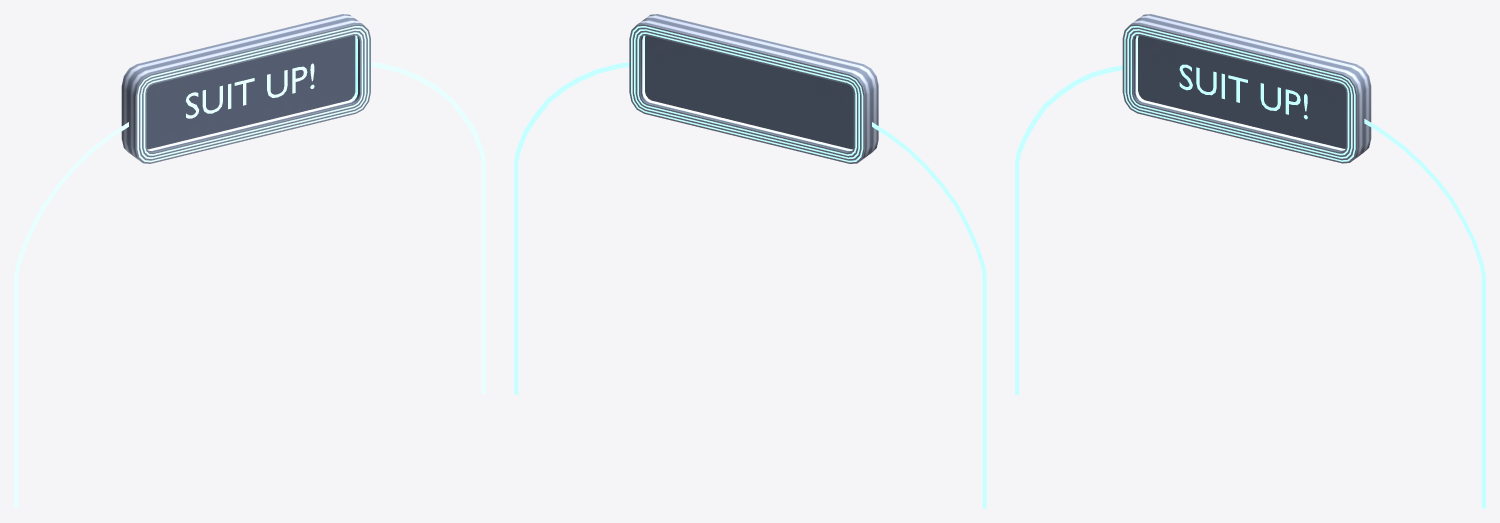
File: obj_sign16.gltf
3 views of the same model, side by side, from view 1: azimuth 30°, elevation 25°; view 2: azimuth 150°, elevation 25°; view 3: azimuth 330°, elevation 25° (orthographic).
Parts seen in each view (by area): view 1: obj_sign16; view 2: obj_sign16; view 3: obj_sign16.
Boxes of the visible parts, left/top/right/bottom form: obj_sign16: left=14, top=14, right=485, bottom=508; obj_sign16: left=514, top=14, right=986, bottom=508; obj_sign16: left=1015, top=14, right=1485, bottom=508.
Size of what is drawn, in the model's own units: 8.55 by 7.07 by 0.439.
2 materials, 1 textured.
